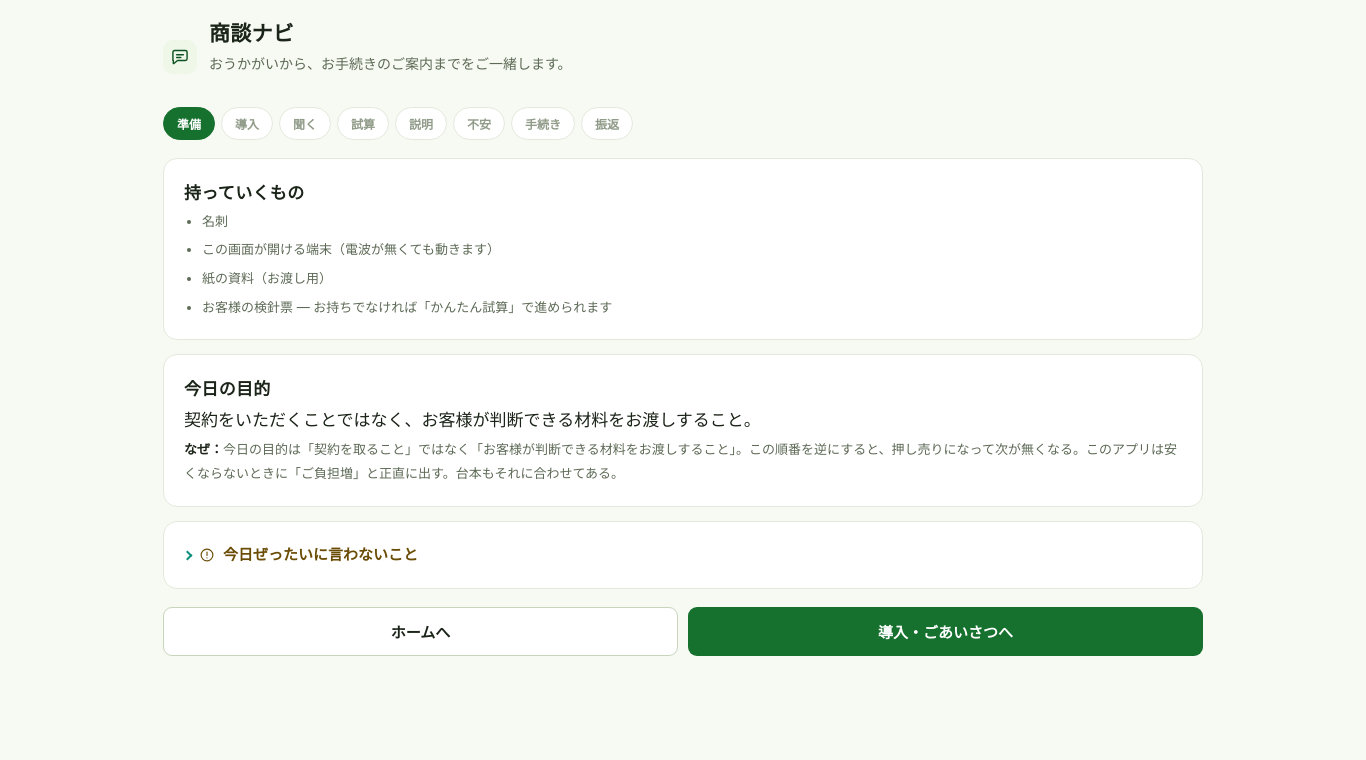
商談ナビ › 段階の帯から好きな段階へ飛べる
The width and height of the screenshot is (1366, 760).
Click the button "聞く" at (305, 123), box [279,107,331,140]
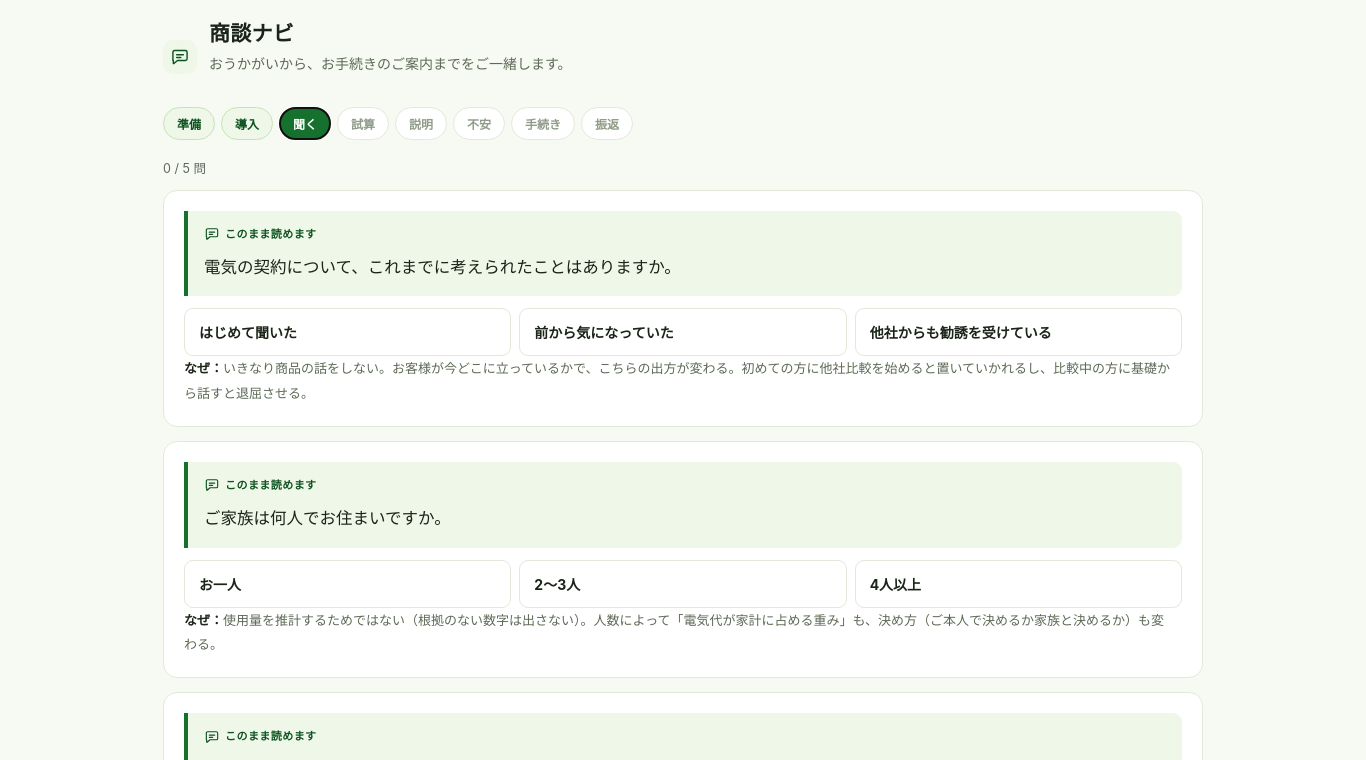
Check: the text "0 / 5 問" is shown, box [163,161,206,176]
